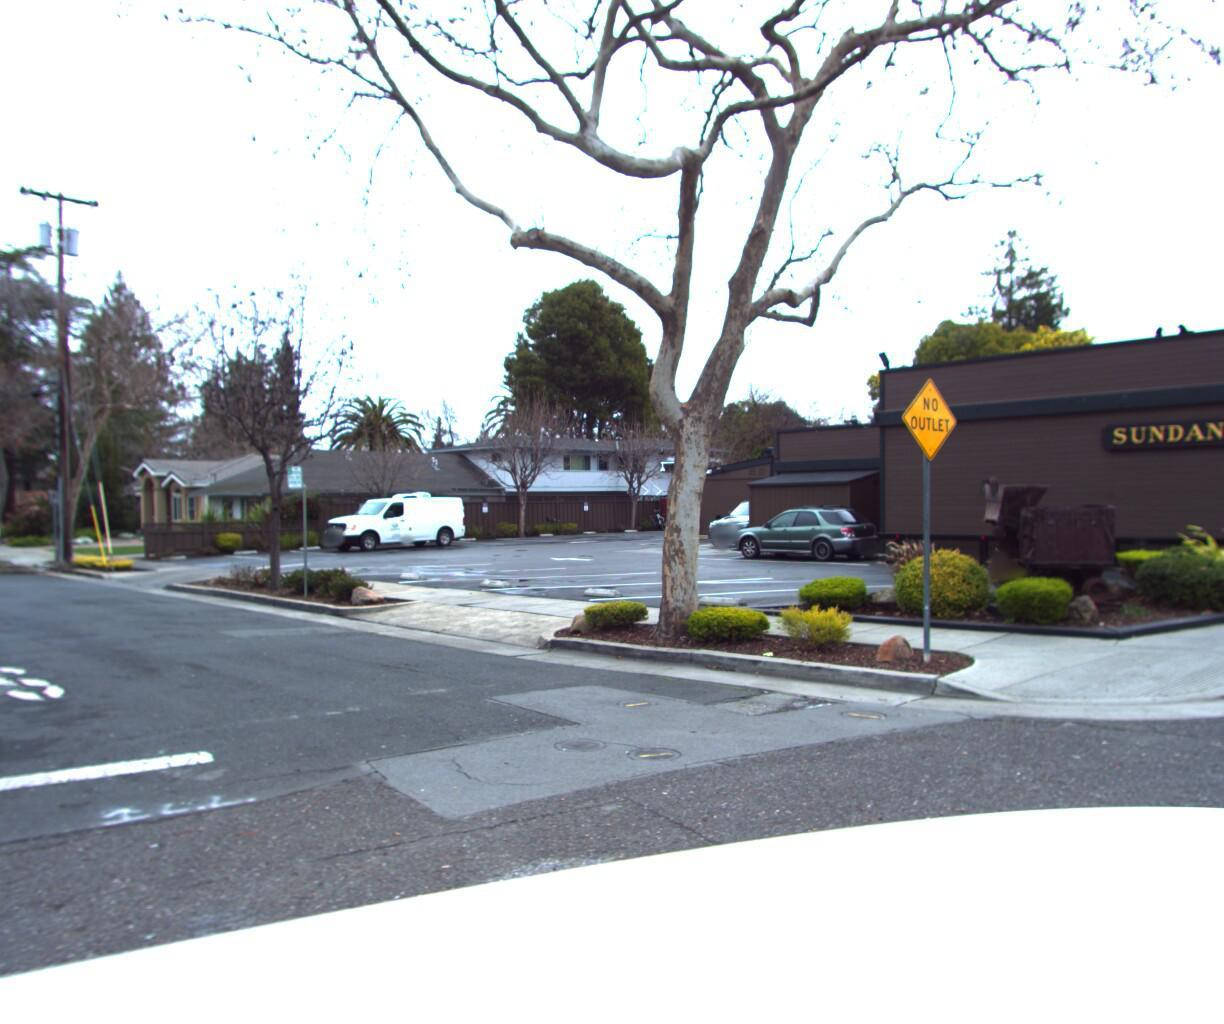car: (308, 487, 470, 553)
